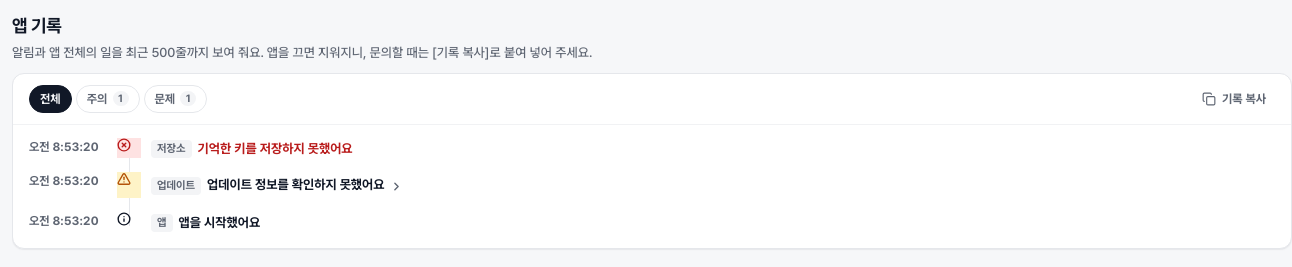
설정 › 앱 기록 › [기록 복사]는 copy_app_log를 보내고 '복사했어요'로 바뀐다
Expected: the number of list items is 3, [29,138,353,158]; [29,172,409,198]; [29,212,260,232]
What coordinates should you click on to do the following:
click the button "기록 복사"
I would click on:
 (1234, 98)
Its box is [1187,84,1281,114].
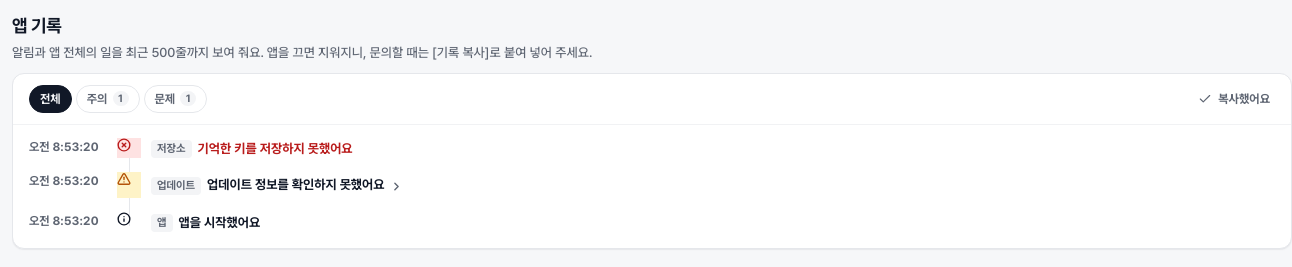
Now the button "복사했어요" is shown, box [1187,84,1281,114]
